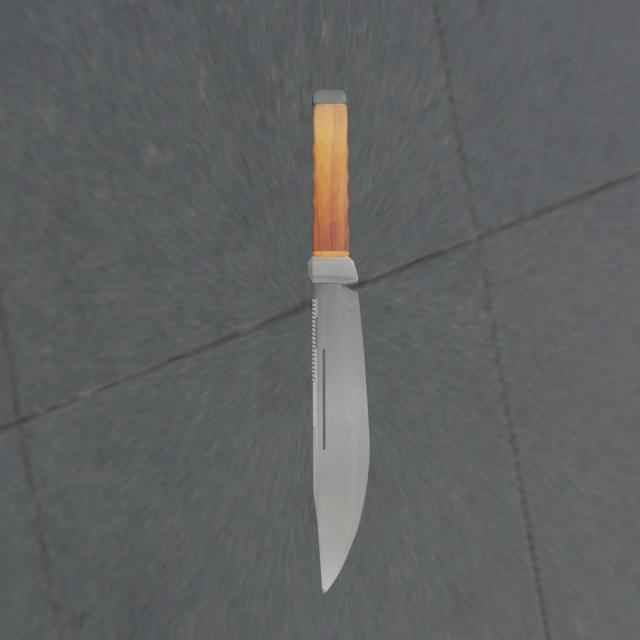knife: (308, 86, 353, 286)
